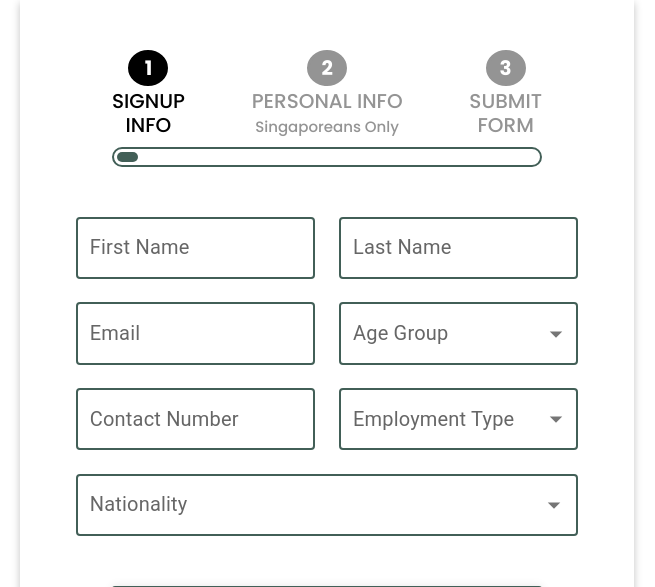
Scenario: Join Form › Email validation to show error when invalid email entered
expect the text "*Please enter a valid email format" is not shown: met
Type "invalidemailformat.com" into the field labelled "Email" at (195, 334), box [76,303,315,365]
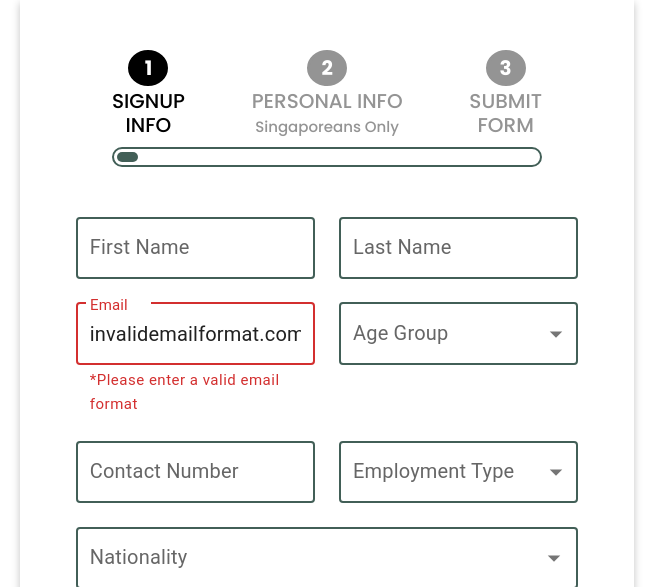
expect the text "*Please enter a valid email format" is shown: met, box [90,368,301,417]
